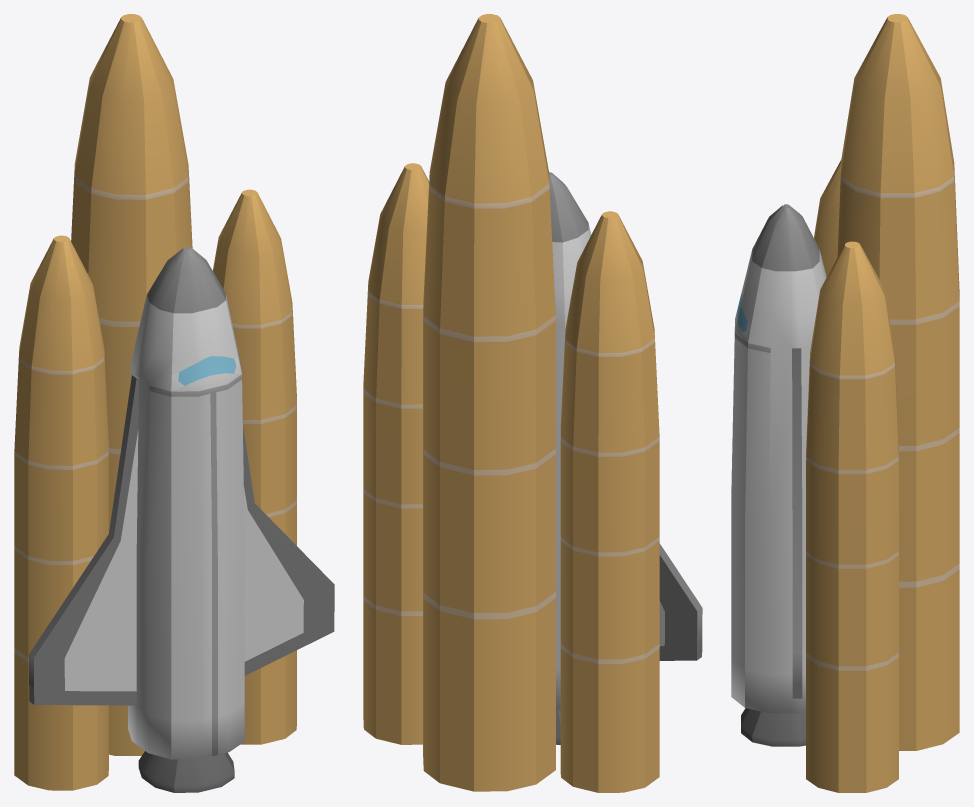
Rendered from SpaceShip1.fbx.
3 renders of one model, left to right at view 1: azimuth 30°, elevation 25°; view 2: azimuth 150°, elevation 25°; view 3: azimuth 270°, elevation 25°, orthographic. The views are drawn at different scales.
Parts seen in each view (by area): view 1: pCube1, pCube4, pCube2, pCube3; view 2: pCube2, pCube4, pCube3, pCube1; view 3: pCube2, pCube3, pCube1, pCube4.
Part boxes in pixels (left/top/right/bottom): pCube1: left=29, top=246, right=334, bottom=792; pCube4: left=14, top=235, right=108, bottom=790; pCube2: left=71, top=14, right=192, bottom=755; pCube3: left=212, top=189, right=296, bottom=744; pCube2: left=423, top=14, right=555, bottom=791; pCube4: left=560, top=211, right=659, bottom=792; pCube3: left=363, top=163, right=428, bottom=744; pCube1: left=549, top=172, right=702, bottom=744; pCube2: left=837, top=14, right=959, bottom=750; pCube3: left=806, top=241, right=898, bottom=792; pCube1: left=731, top=204, right=826, bottom=746; pCube4: left=814, top=160, right=841, bottom=276.
Bounding box in the file's own units: 50.13 × 114 × 33.12.
